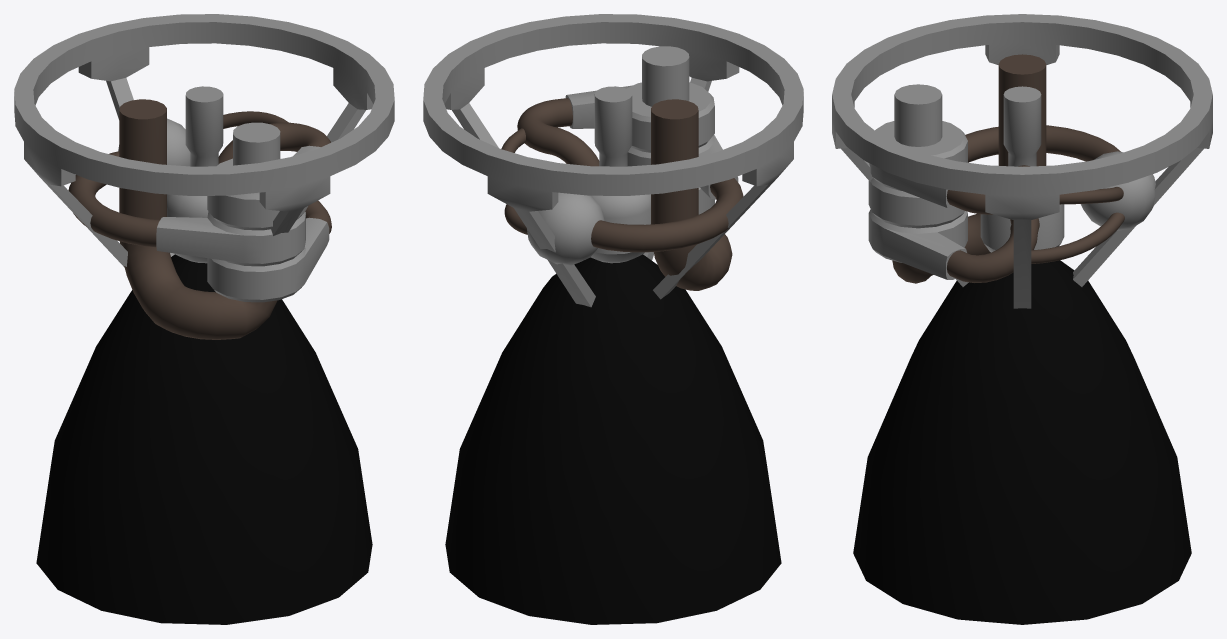
3 views of the same model, side by side, from view 1: azimuth 30°, elevation 25°; view 2: azimuth 150°, elevation 25°; view 3: azimuth 270°, elevation 25° (orthographic).
Parts seen in each view (by area): view 1: Cylinder.001; view 2: Cylinder.001; view 3: Cylinder.001.
Boxes of the visible parts, x1,y1,x2,y2 form: Cylinder.001: [14, 14, 394, 624]; Cylinder.001: [423, 14, 803, 624]; Cylinder.001: [832, 14, 1212, 624].
Size of the model in its own units: 2 by 2.66 by 2.
